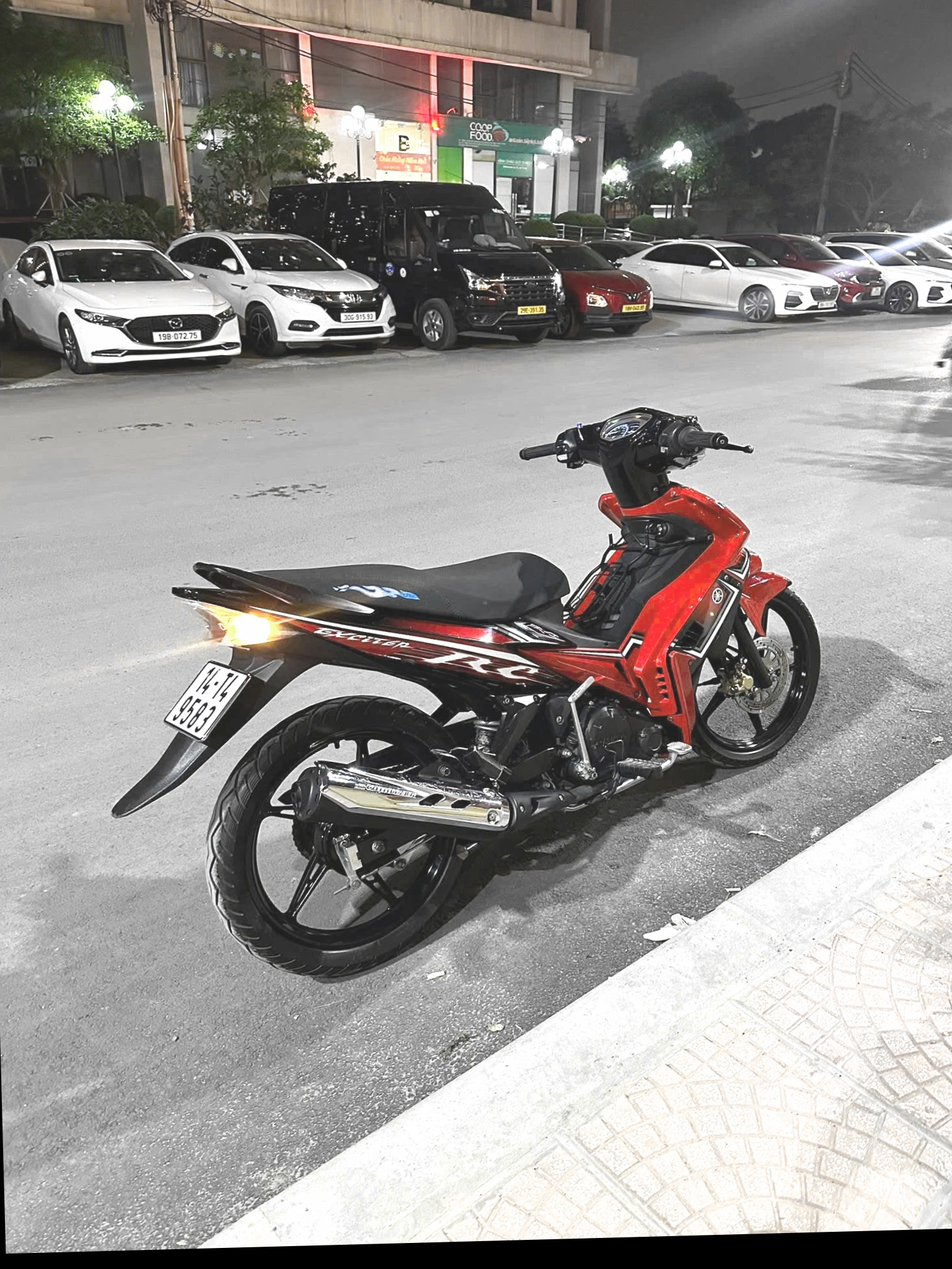Bien-so: (174, 675, 253, 751)
